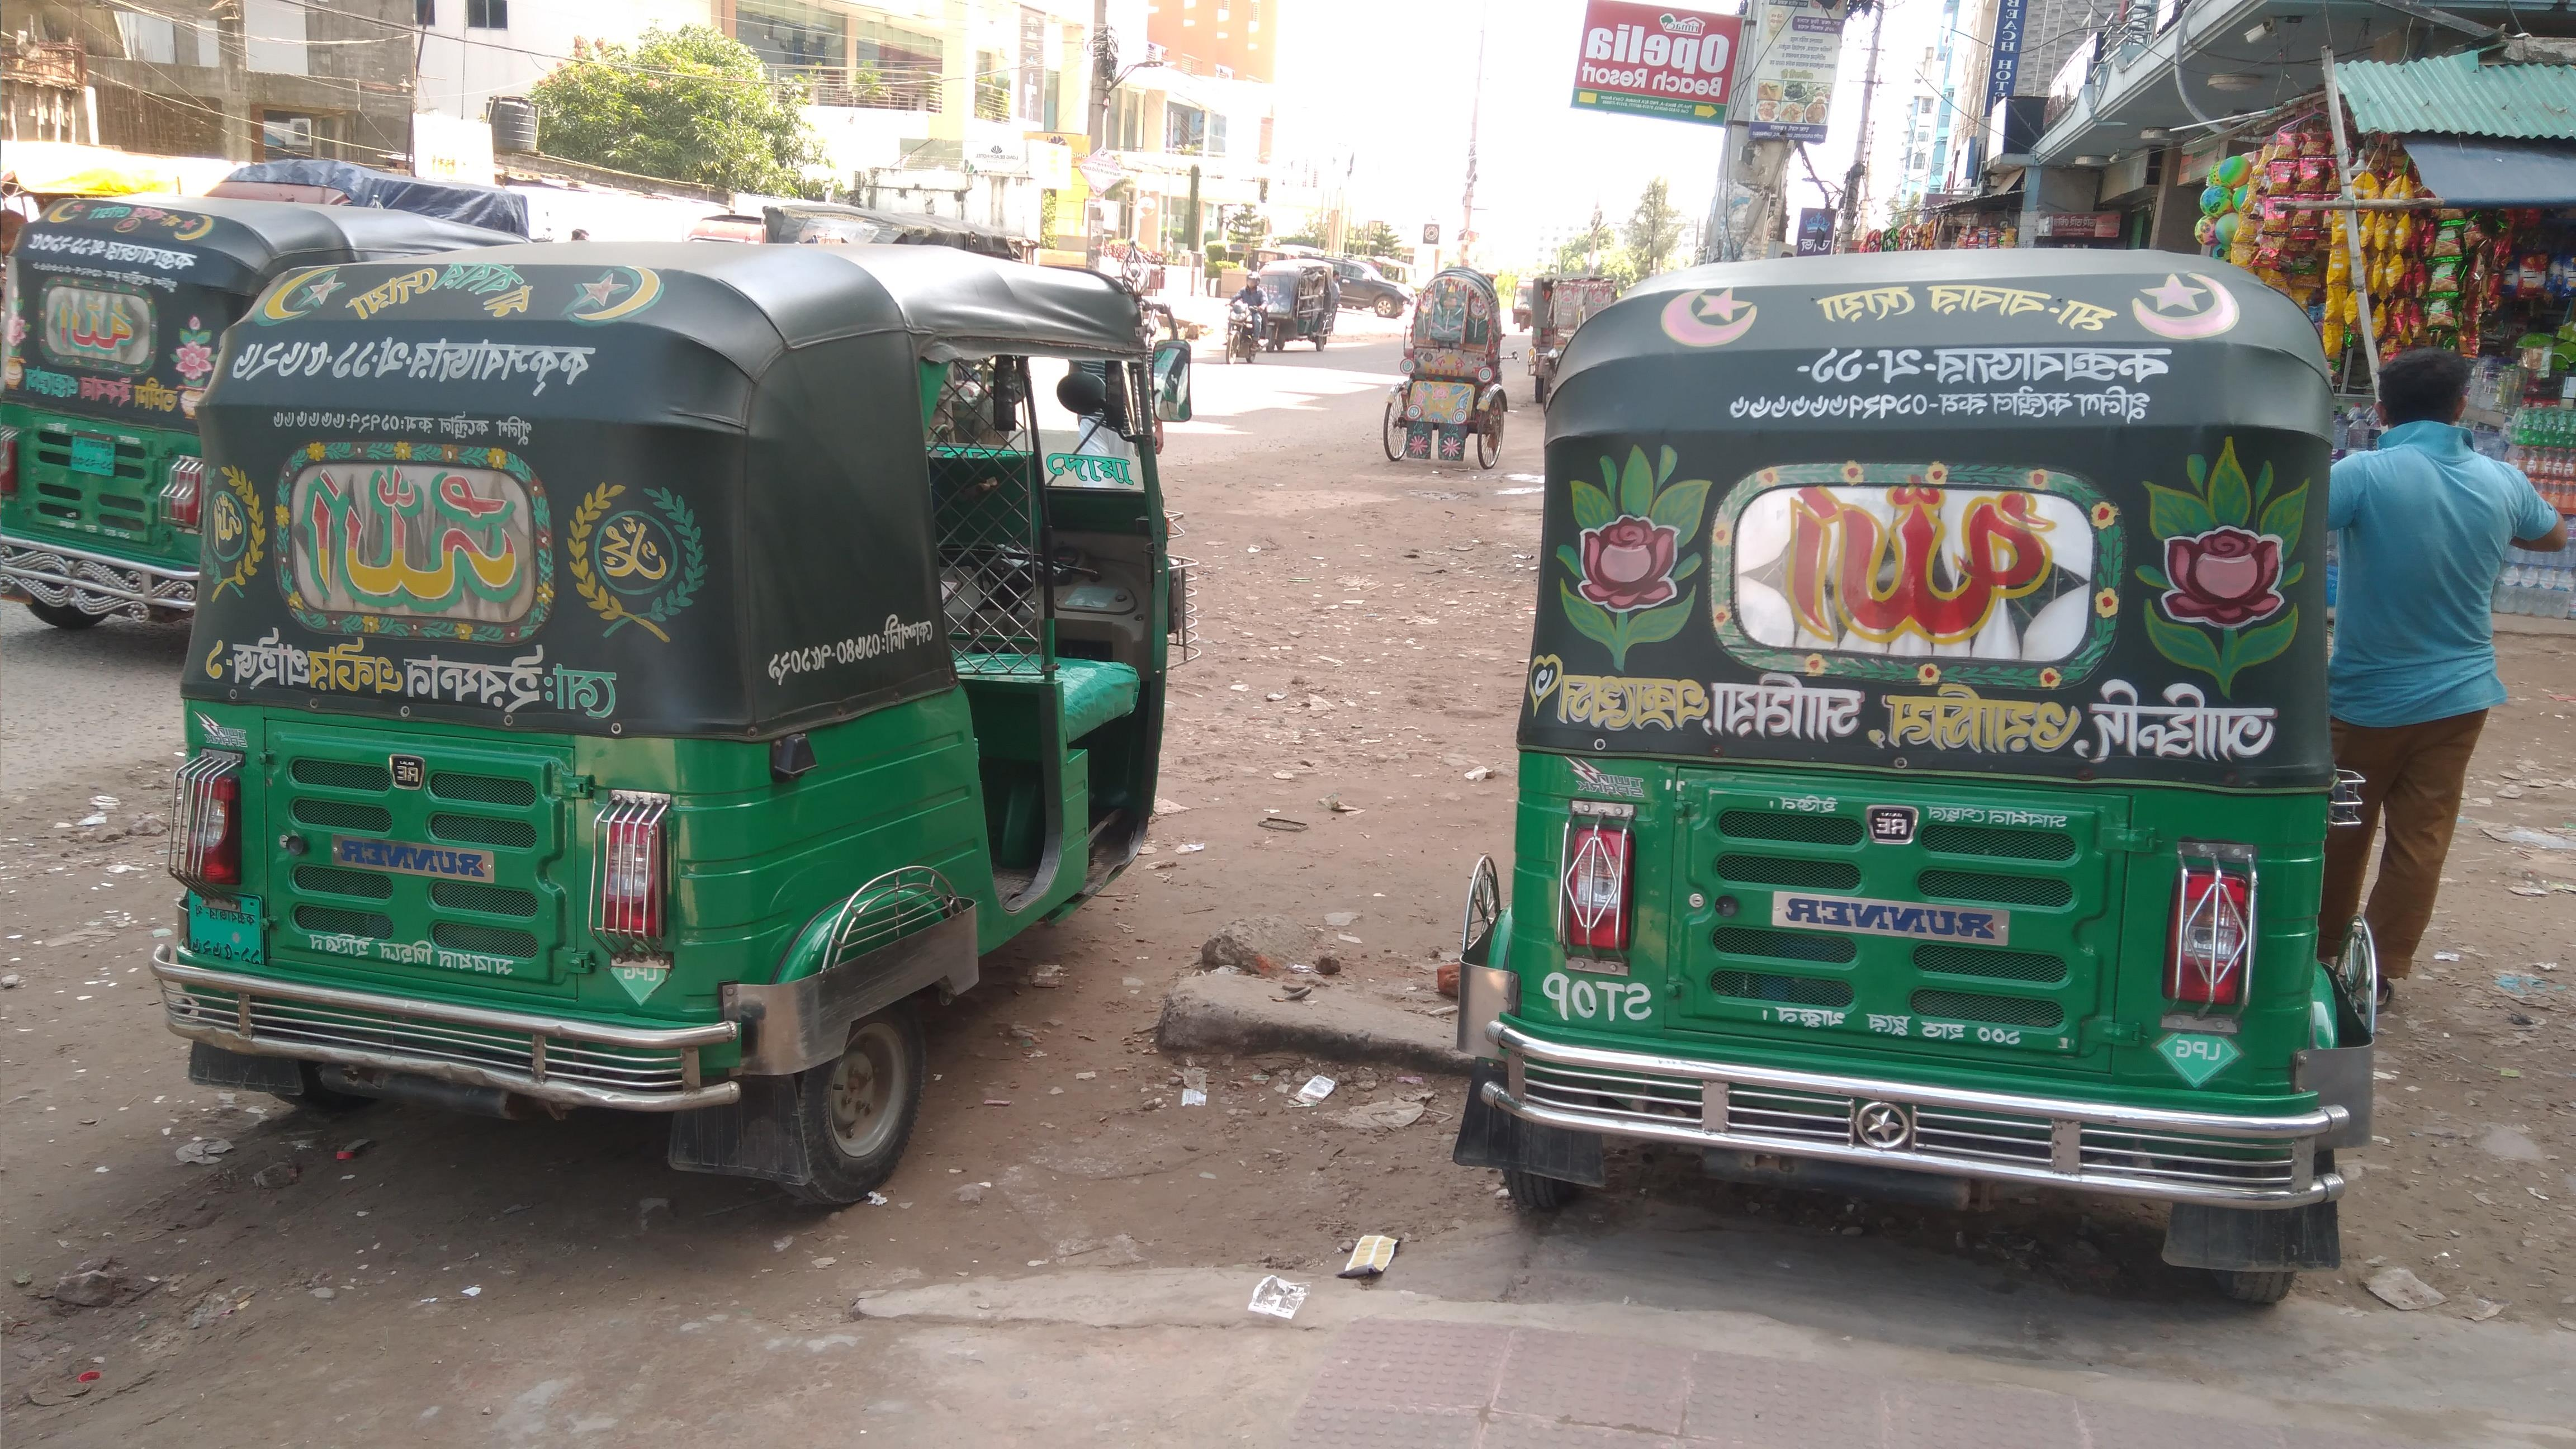bike: (1228, 288, 1265, 373)
cng: (1410, 242, 2403, 1306), (143, 221, 1196, 1214), (0, 184, 435, 695)
easybike: (1518, 257, 1635, 409), (1253, 257, 1341, 354)
